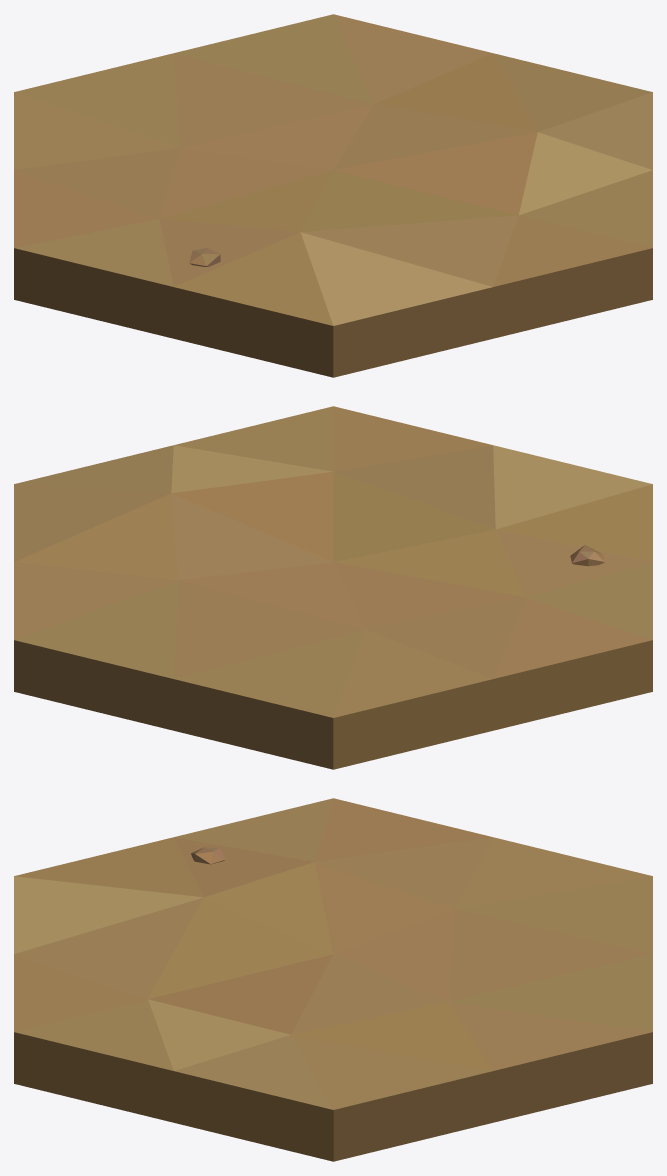
File: Desert-Far.glb
The picture shows the model from 3 angles, top to bottom: view 1: azimuth 30°, elevation 25°; view 2: azimuth 150°, elevation 25°; view 3: azimuth 270°, elevation 25°; orthographic projection.
Visible parts, largest first — view 1: Desert-Far; view 2: Desert-Far; view 3: Desert-Far.
Boxes of the visible parts, x1,y1,x2,y2 form: Desert-Far: (14,14,652,377); Desert-Far: (14,406,652,769); Desert-Far: (14,798,652,1161).
Size of the model in its own units: 1.94 by 0.184 by 1.68.
